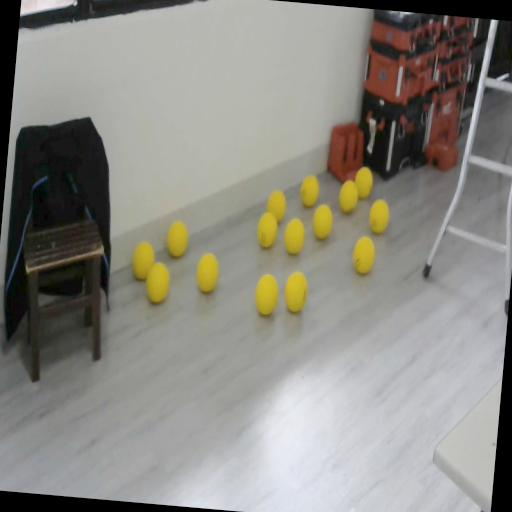FUEL: (252, 271, 281, 318), (144, 260, 172, 305), (194, 251, 221, 294), (283, 270, 309, 313), (351, 234, 377, 276), (164, 218, 190, 259), (131, 240, 156, 281), (282, 217, 306, 256), (310, 202, 334, 240), (367, 198, 391, 234), (266, 188, 288, 224), (338, 178, 360, 214), (353, 165, 375, 199), (299, 174, 321, 208)
